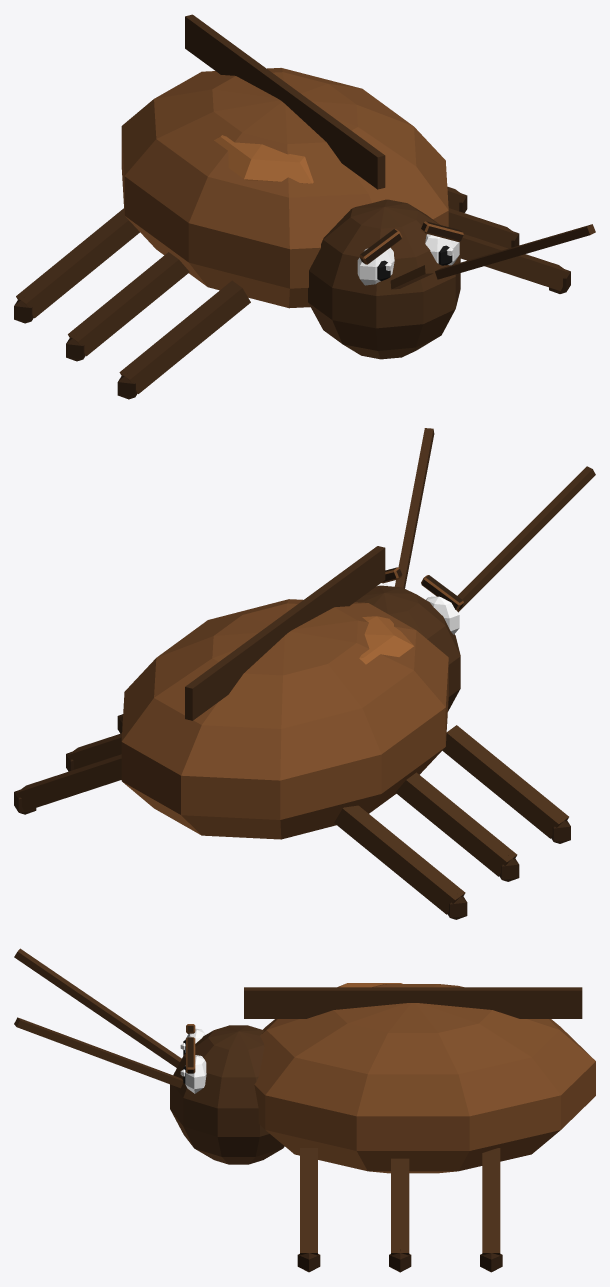
The model's file is kakerlake.glb.
3 renders of one model, top to bottom at view 1: azimuth 30°, elevation 25°; view 2: azimuth 150°, elevation 25°; view 3: azimuth 270°, elevation 25°, orthographic. The views are drawn at different scales.
Parts seen in each view (by area): view 1: body-m, leg-0-m, leg-1-m; view 2: body-m, leg-0-m, leg-1-m; view 3: body-m, leg-1-m.
Boxes of the visible parts, x1=… form: body-m: x1=121, y1=14, x2=595, y2=359; leg-0-m: x1=14, y1=208, x2=250, y2=399; leg-1-m: x1=447, y1=186, x2=570, y2=293; body-m: x1=121, y1=428, x2=595, y2=839; leg-0-m: x1=334, y1=725, x2=570, y2=919; leg-1-m: x1=14, y1=714, x2=123, y2=814; body-m: x1=14, y1=948, x2=595, y2=1173; leg-1-m: x1=297, y1=1148, x2=502, y2=1272.
Bounding box in the file's own units: 1.77 × 0.8289 × 2.23.
